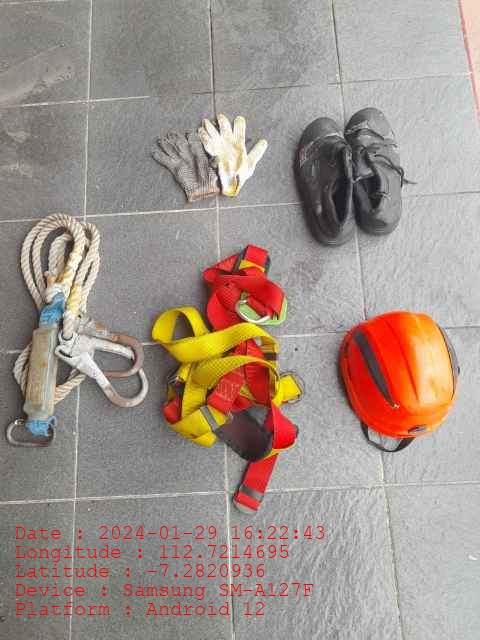HELM: (338, 312, 460, 439)
SARUNG_TANGAN: (150, 131, 218, 202)
SEPATU: (296, 109, 404, 246)
TAMBANG_SLING: (6, 213, 151, 449)
